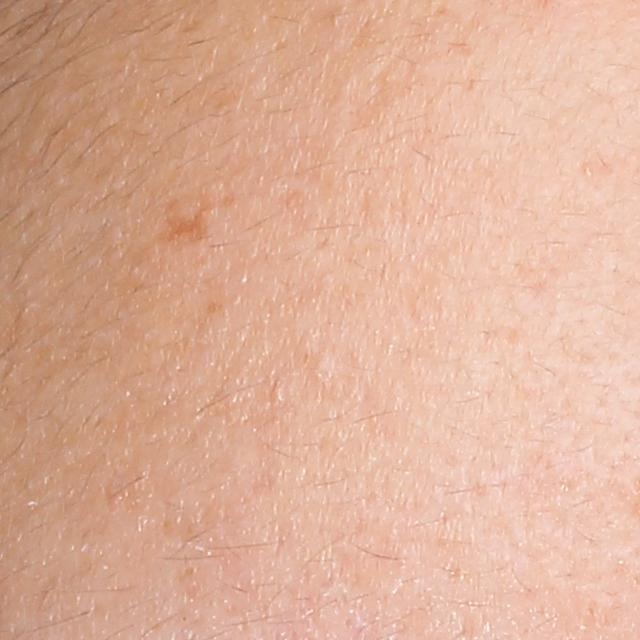comedo: (579, 164, 594, 180), (270, 386, 285, 402)
